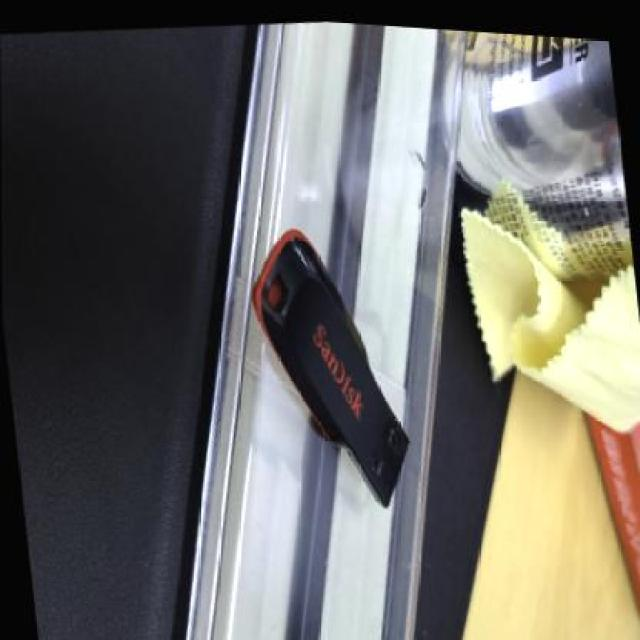Flashdisk: (241, 208, 417, 517)
